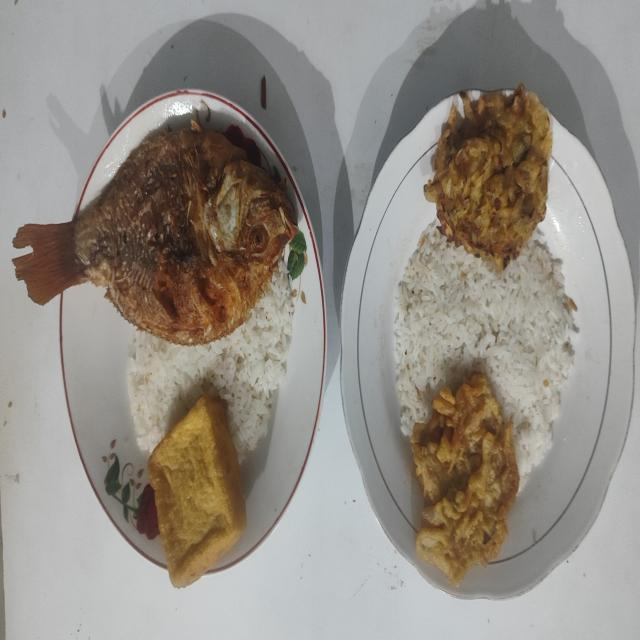ikan_mujair: (13, 122, 297, 345)
nasi_putih: (394, 226, 578, 489), (127, 260, 296, 462)
tahu_goreng: (148, 396, 247, 588)
